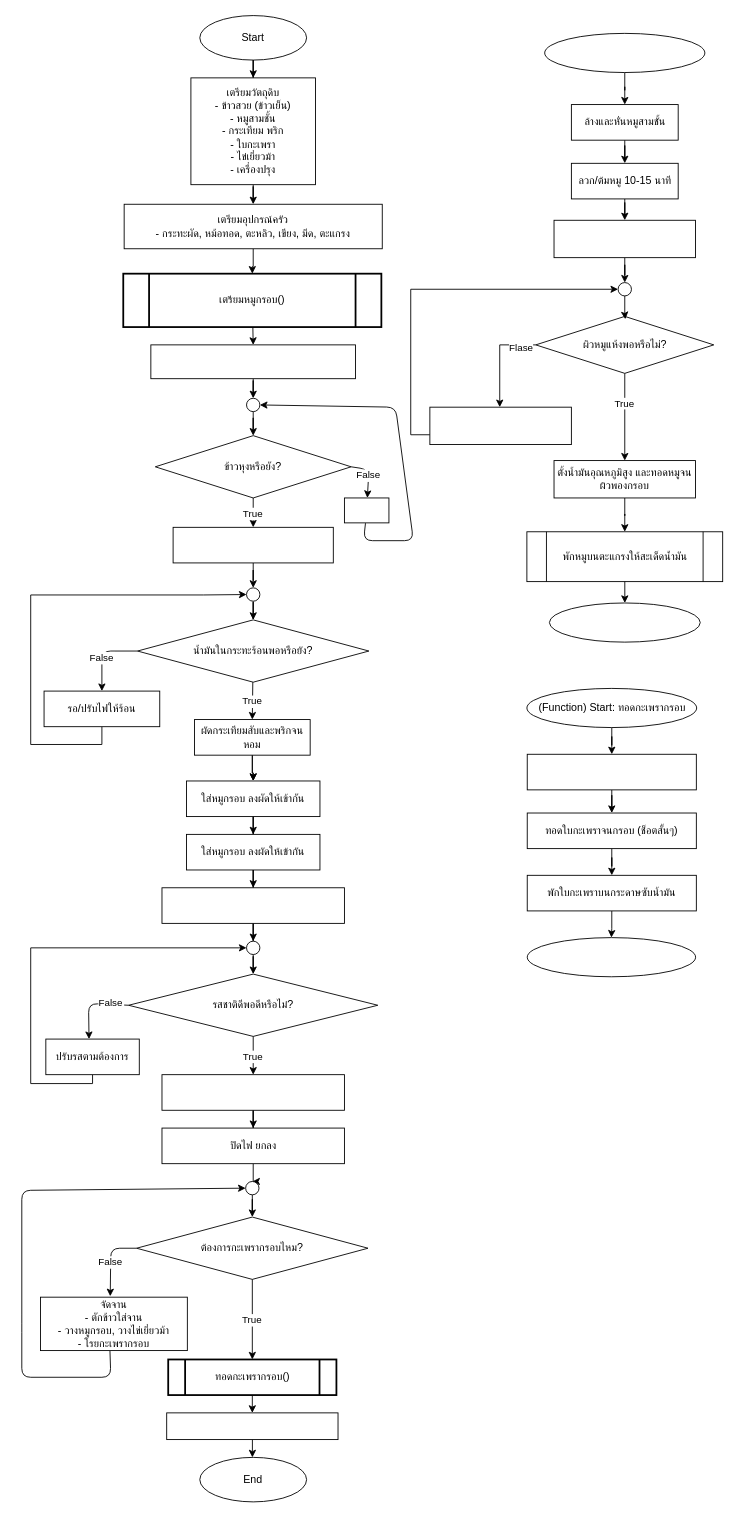
Some shapes in this 739 by 1517 pixel diagram are drawn without their labels. The shapes that lost their labels are listed below. From the top down, each one's centre as x and y in pixels, then its label:
At pixel 624 52: "(Function) Start: เตรียมหมูกรอบ".
At pixel 624 238: "สะเด็ดน้ำและทำให้ผิวหมูแห้ง".
At pixel 253 361: "เตรียมไข่เยี่ยวม้า (ปอก หั่น เตรียม)".
At pixel 500 425: "ทำให้ผิวหมูแห้งเพิ่มเติม (เช็ด/แช่ตู้เย็น/อบลม)".
At pixel 366 510: "หุงข้าว".
At pixel 252 544: "ตั้งกระทะผัด และใส่น้ำมันพอเหมาะ".
At pixel 624 622: "(Function) End: หมูกรอบพร้อม".
At pixel 611 771: "ตั้งน้ำมันสำหรับทอดใบกะเพรา".
At pixel 252 905: "ปรุงรส (น้ำปลา/ซีอิ๊ว/น้ำตาล) ชิมเล็กน้อย".
At pixel 611 957: "(Function) End กะเพรากรอบพร้อม".
At pixel 252 1092: "ใส่ใบกะเพราสำหรับผัด (ผัดไฟแรง 5-10 วินาที)".
At pixel 252 1426: "ตรวจความเรียบร้อย และชิมอีกครั้ง".
